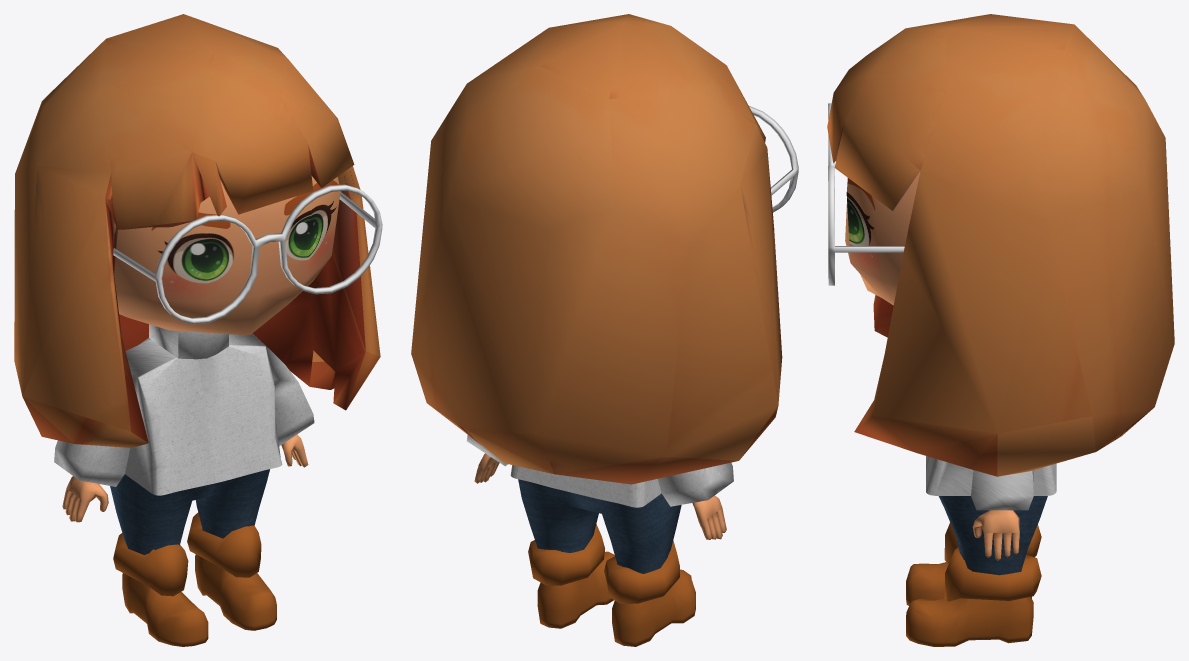
Rendered from chibi-low-poly-e6bb.glb.
The picture shows the model from 3 angles, left to right: view 1: azimuth 30°, elevation 25°; view 2: azimuth 150°, elevation 25°; view 3: azimuth 270°, elevation 25°; orthographic projection. The views are drawn at different scales.
Parts seen in each view (by area): view 1: material.001_4, Tronco_5, Cabeca_1, Botas_2, Pernas_3, Oculos_7, bracos_6; view 2: material.001_4, Botas_2, Pernas_3, Tronco_5, bracos_6, Oculos_7; view 3: material.001_4, Botas_2, Cabeca_1, Tronco_5, Pernas_3, bracos_6, Oculos_7.
Part boxes in pixels (x1,y1,x2,y2): material.001_4: [14, 14, 380, 447]; Tronco_5: [54, 324, 314, 495]; Cabeca_1: [114, 176, 340, 335]; Botas_2: [113, 512, 276, 646]; Pernas_3: [110, 469, 269, 554]; Oculos_7: [113, 184, 382, 324]; bracos_6: [62, 434, 308, 522]; material.001_4: [411, 14, 782, 484]; Botas_2: [528, 524, 695, 646]; Pernas_3: [518, 479, 681, 573]; Tronco_5: [467, 435, 733, 507]; bracos_6: [474, 453, 726, 539]; Oculos_7: [749, 106, 798, 212]; material.001_4: [827, 14, 1174, 476]; Botas_2: [906, 522, 1041, 646]; Cabeca_1: [845, 171, 920, 305]; Tronco_5: [926, 456, 1056, 510]; Pernas_3: [938, 496, 1047, 575]; bracos_6: [972, 510, 1019, 560]; Oculos_7: [828, 103, 904, 285].
Bounding box in the file's own units: 1.99 × 3.12 × 1.67.
Materials: 7 (5 with a texture image).
